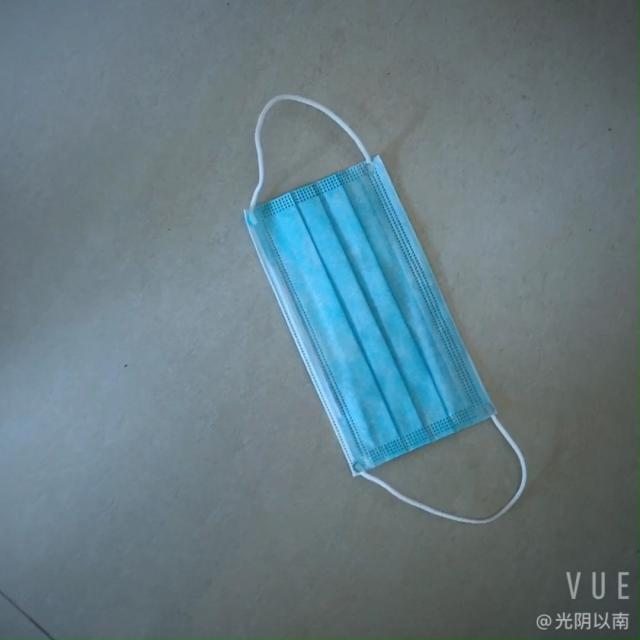non-organic waste: (234, 163, 508, 480)
